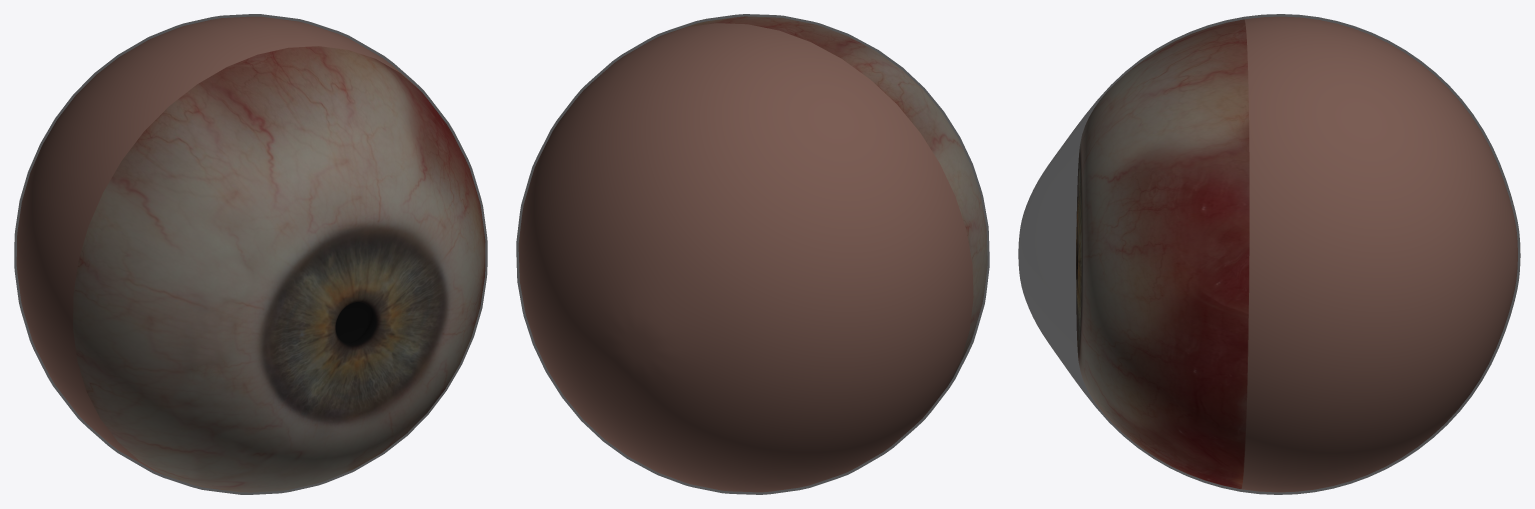
The model's file is realistic_human_eye.glb.
3 renders of one model, left to right at view 1: azimuth 30°, elevation 25°; view 2: azimuth 150°, elevation 25°; view 3: azimuth 270°, elevation 25°, orthographic.
Parts seen in each view (by area): view 1: Eye_1_R, Eye_2_R; view 2: Eye_1_R, Eye_2_R; view 3: Eye_1_R, Eye_2_R.
Boxes of the visible parts, x1,y1,x2,y2 form: Eye_1_R: (14, 14, 487, 494); Eye_2_R: (16, 16, 485, 492); Eye_1_R: (516, 14, 989, 494); Eye_2_R: (518, 16, 987, 492); Eye_1_R: (1018, 14, 1520, 494); Eye_2_R: (1076, 16, 1517, 492).
Bounding box in the file's own units: 0.1563 × 0.1596 × 0.1659.
2 materials, 1 textured.
